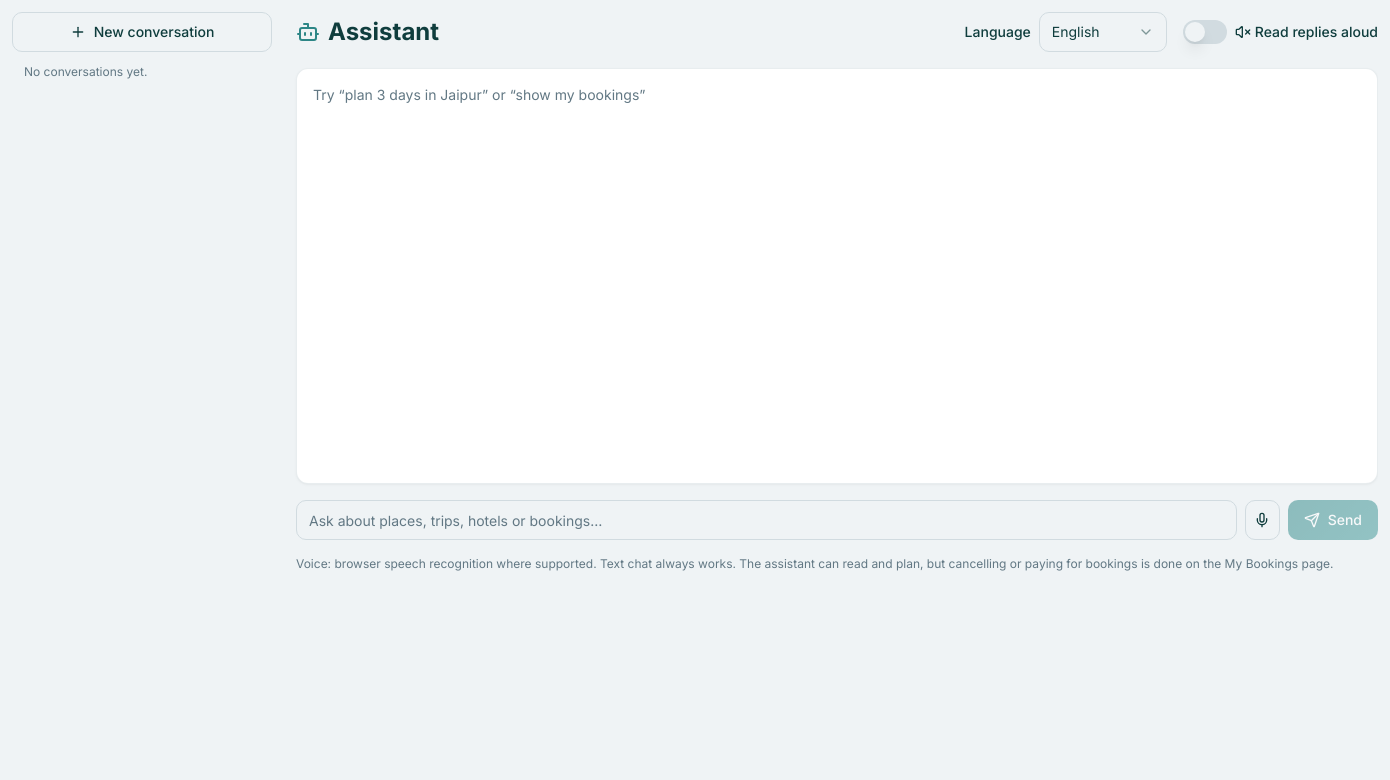
Assistant › reports a chat failure without losing the page
The width and height of the screenshot is (1390, 780).
Type "hello" into the field named "Message". click: (766, 520)
box: [296,500,1237,540]
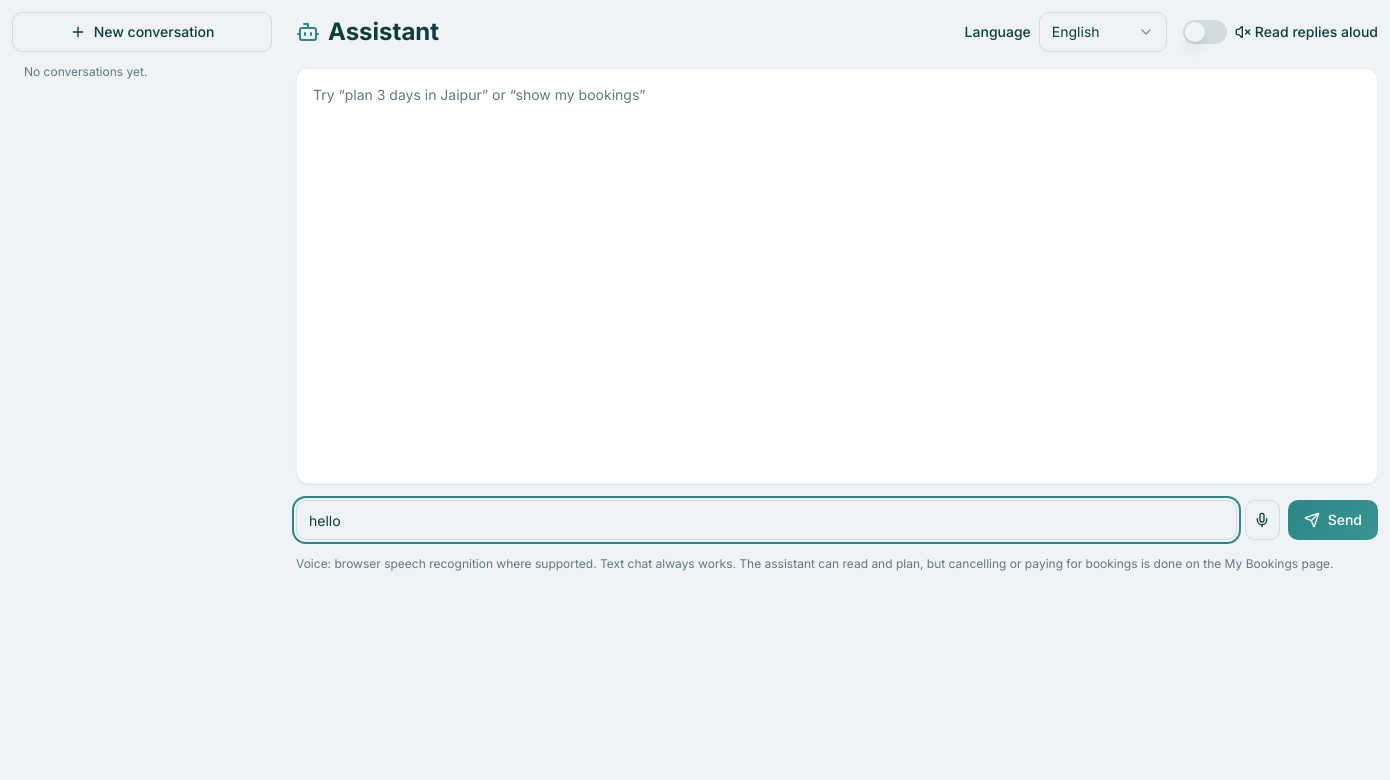
Click the button "Send". click: click(1333, 520)
box: [1288,500,1378,540]
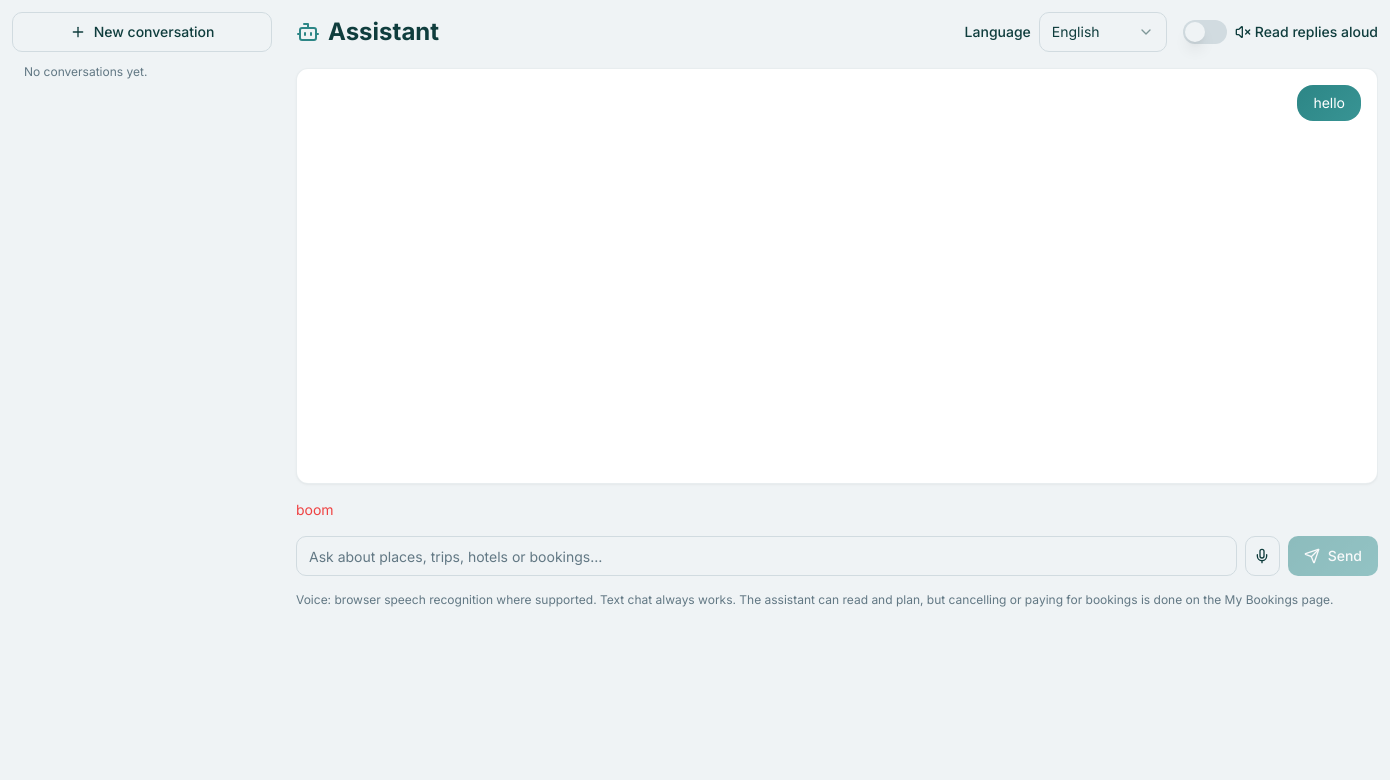
Check: the field named "Message" is shown, box [296,536,1237,576]
Check: the message "boom" is shown, box [296,501,334,518]
